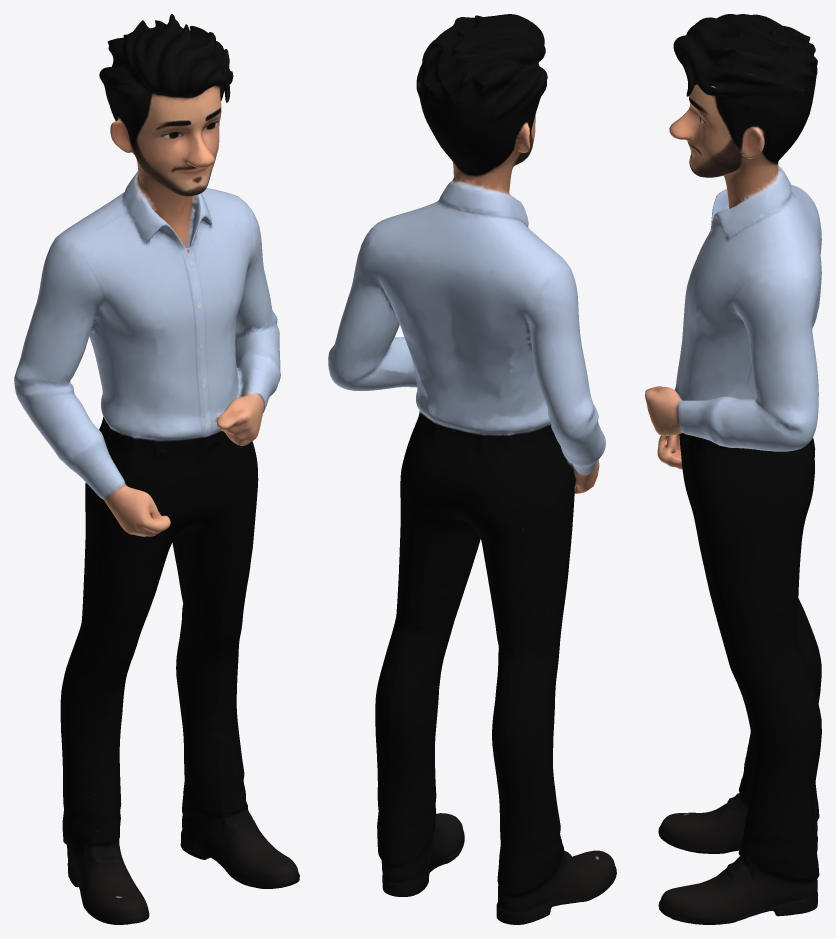
Rendered from avatar.glb.
The picture shows the model from 3 angles, left to right: view 1: azimuth 30°, elevation 25°; view 2: azimuth 150°, elevation 25°; view 3: azimuth 270°, elevation 25°; orthographic projection.
Visible parts, largest first — view 1: Mesh_0; view 2: Mesh_0; view 3: Mesh_0.
Boxes of the visible parts, bbox=[...] form: Mesh_0: bbox=[14, 14, 299, 924]; Mesh_0: bbox=[328, 14, 616, 924]; Mesh_0: bbox=[645, 14, 821, 924].
Size of the model in its own units: 0.6009 by 1.9 by 0.3546.
1 material, 1 textured.
